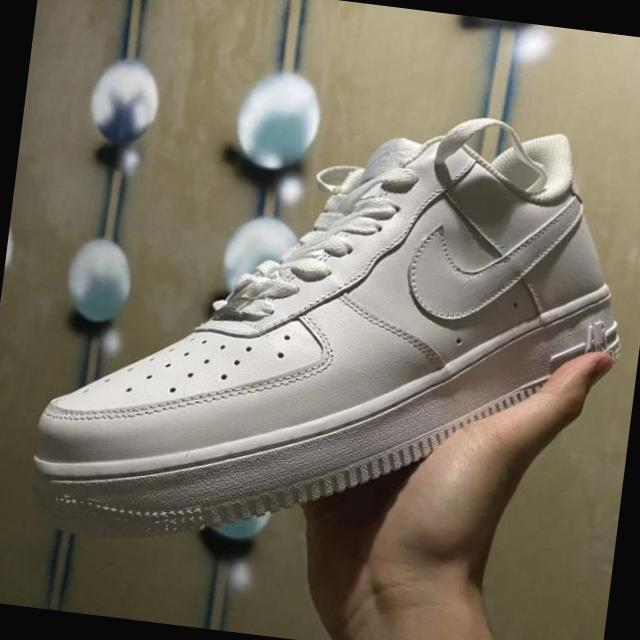nike_original_airforce: (17, 66, 640, 591)
